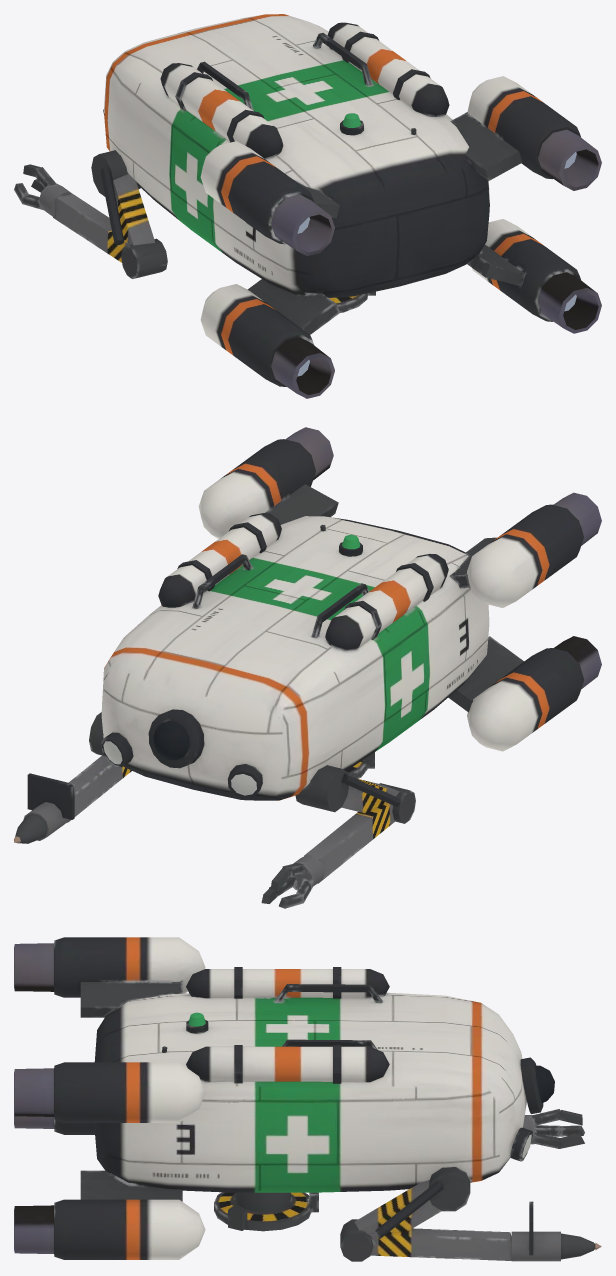
Rendered from drone.glb.
3 renders of one model, top to bottom at view 1: azimuth 30°, elevation 25°; view 2: azimuth 150°, elevation 25°; view 3: azimuth 270°, elevation 25°, orthographic. The views are drawn at different scales.
Visible parts, largest first — view 1: hull, arm_L; view 2: hull, arm_L, arm_R; view 3: hull, arm_R, arm_L.
Part boxes in pixels (x1,y1,x2,y2): hull: (103, 14, 601, 398); arm_L: (14, 150, 167, 278); hull: (101, 427, 601, 800); arm_L: (261, 765, 415, 908); arm_R: (14, 712, 131, 843); hull: (14, 937, 554, 1259); arm_R: (340, 1167, 601, 1261); arm_L: (523, 1109, 584, 1148).
Bounding box in the file's own units: 2.17 × 1.39 × 3.57.
Materials: 1 (1 with a texture image).
